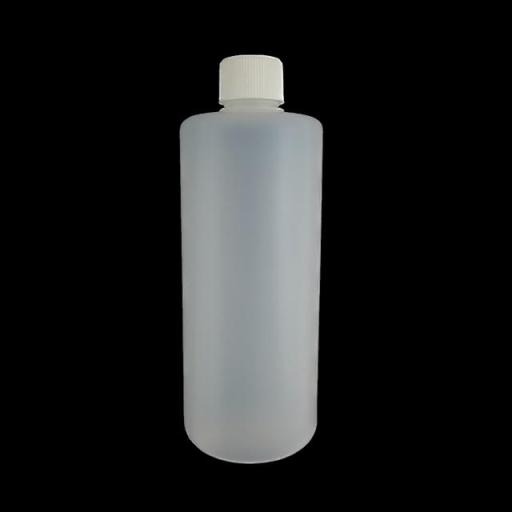plastic: (168, 50, 330, 471)
